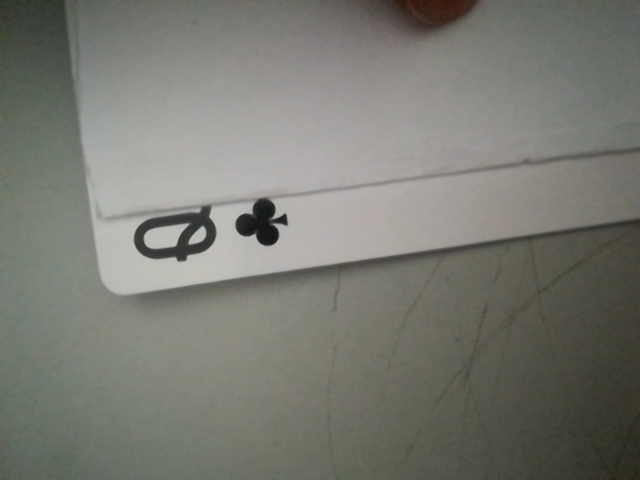mh q: (107, 194, 296, 279)
